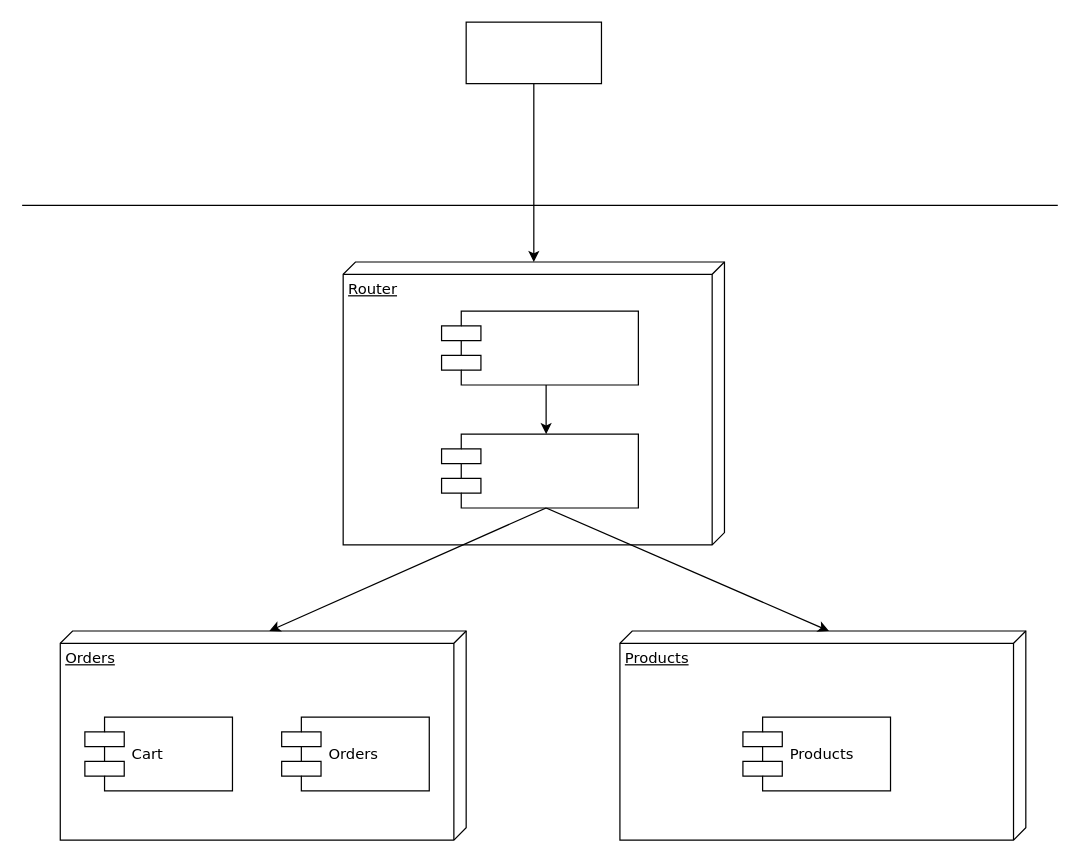
Image size: 1079x861. Some labels were removed from this diagram. Here are the shapes that lost their labels. From the top down, the centre of each, then its label:
At point (533, 52): "Client".
At point (539, 347): "User Management".
At point (539, 470): "Dispatcher".
